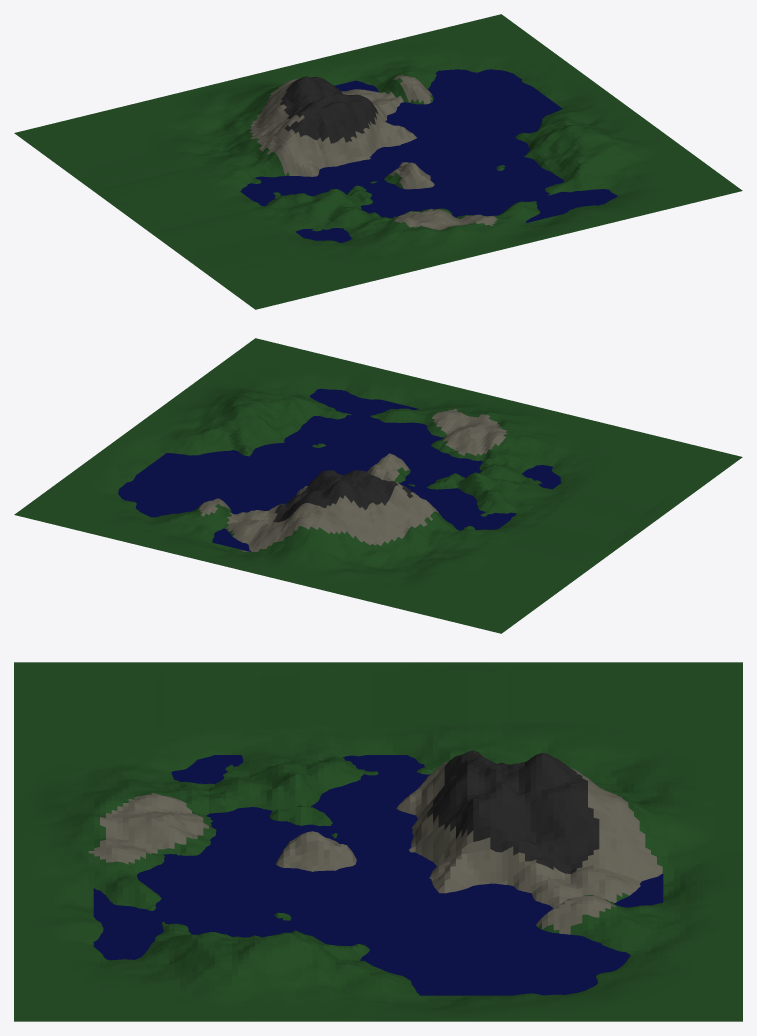
The model's file is new-island.glb.
The picture shows the model from 3 angles, top to bottom: view 1: azimuth 30°, elevation 25°; view 2: azimuth 150°, elevation 25°; view 3: azimuth 270°, elevation 25°; orthographic projection. The views are drawn at different scales.
Parts seen in each view (by area): view 1: Landscape, Landscape_plane; view 2: Landscape, Landscape_plane; view 3: Landscape, Landscape_plane.
Part boxes in pixels (box(x1,y1,x2,y2)): Landscape: box(14, 14, 742, 309); Landscape_plane: box(240, 69, 617, 242); Landscape: box(14, 338, 742, 633); Landscape_plane: box(118, 388, 561, 552); Landscape: box(14, 662, 742, 1021); Landscape_plane: box(93, 755, 663, 995).
Size of the model in its own units: 1.53 by 0.2158 by 1.32.
